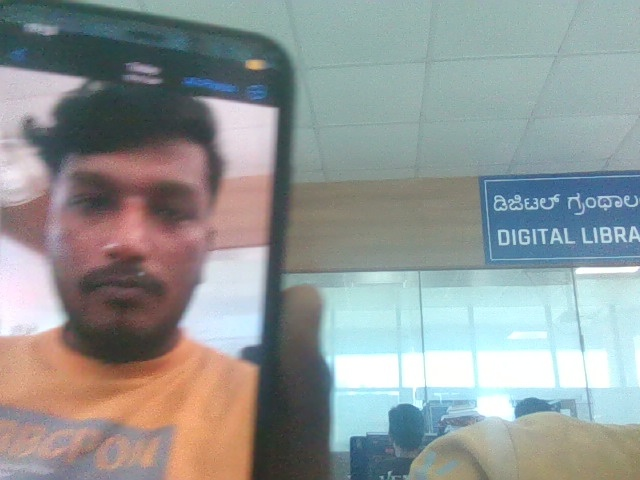fake: (24, 48, 246, 362)
